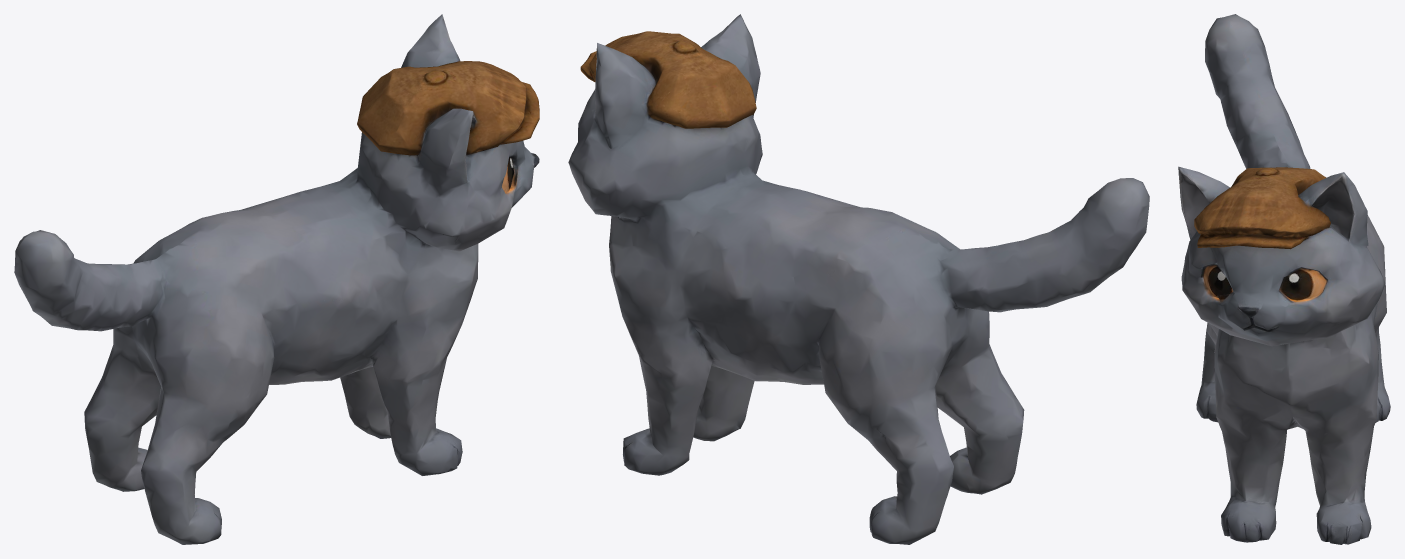
The model's file is TUPPENCE.glb.
The picture shows the model from 3 angles, left to right: view 1: azimuth 30°, elevation 25°; view 2: azimuth 150°, elevation 25°; view 3: azimuth 270°, elevation 25°; orthographic projection. The views are drawn at different scales.
Parts seen in each view (by area): view 1: tripo_node_bd867898-0d6e-4ad8-8d27-82673830e86e; view 2: tripo_node_bd867898-0d6e-4ad8-8d27-82673830e86e; view 3: tripo_node_bd867898-0d6e-4ad8-8d27-82673830e86e.
Part boxes in pixels (x1,y1,x2,y2): tripo_node_bd867898-0d6e-4ad8-8d27-82673830e86e: (14, 14, 539, 544); tripo_node_bd867898-0d6e-4ad8-8d27-82673830e86e: (568, 14, 1149, 544); tripo_node_bd867898-0d6e-4ad8-8d27-82673830e86e: (1178, 14, 1390, 544).
Bounding box in the file's own units: 1.38 × 1 × 0.494.
Materials: 1 (1 with a texture image).
